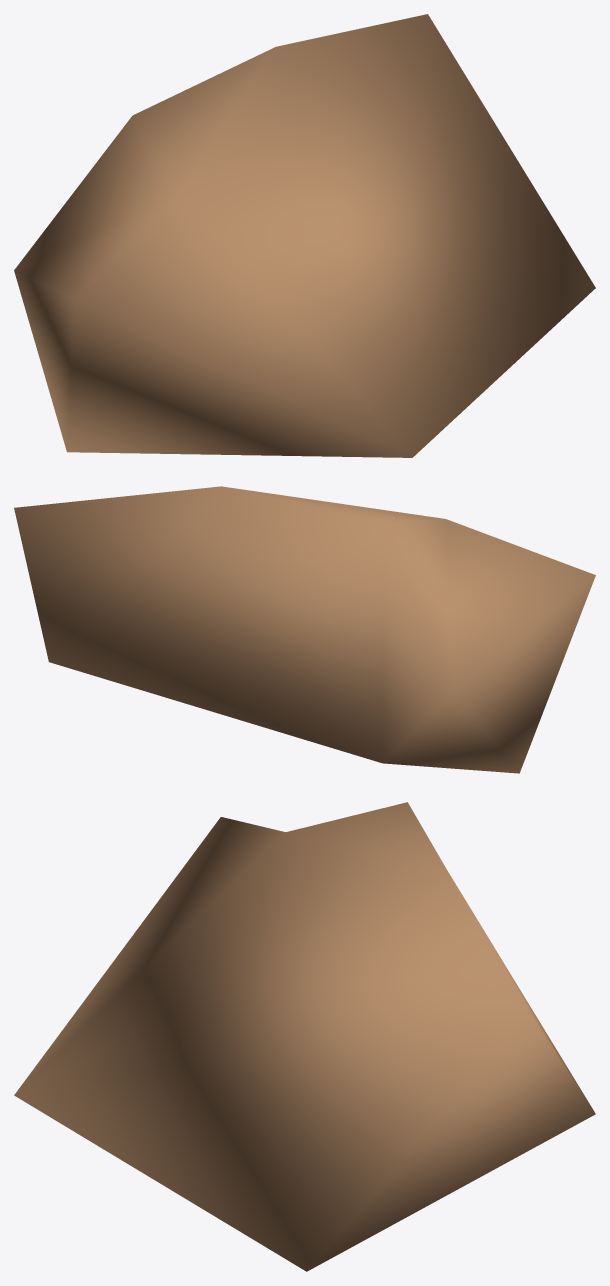
Rendered from MSH_Rock_Single_37.FBX.
3 views of the same model, one above another, from view 1: azimuth 30°, elevation 25°; view 2: azimuth 150°, elevation 25°; view 3: azimuth 270°, elevation 25° (orthographic). The views are drawn at different scales.
Visible parts, largest first — view 1: MESH_ROCK_13; view 2: MESH_ROCK_13; view 3: MESH_ROCK_13.
Boxes of the visible parts, bbox=[...] form: MESH_ROCK_13: bbox=[14, 14, 595, 457]; MESH_ROCK_13: bbox=[14, 486, 595, 773]; MESH_ROCK_13: bbox=[14, 802, 595, 1271].
Bounding box in the file's own units: 6.95 × 3.49 × 5.87.
